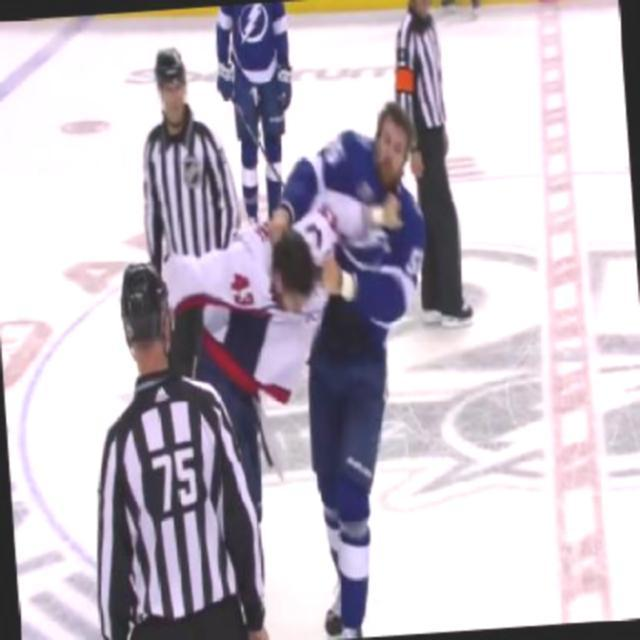fight: (175, 92, 437, 416)
non-fight: (78, 254, 274, 638)
